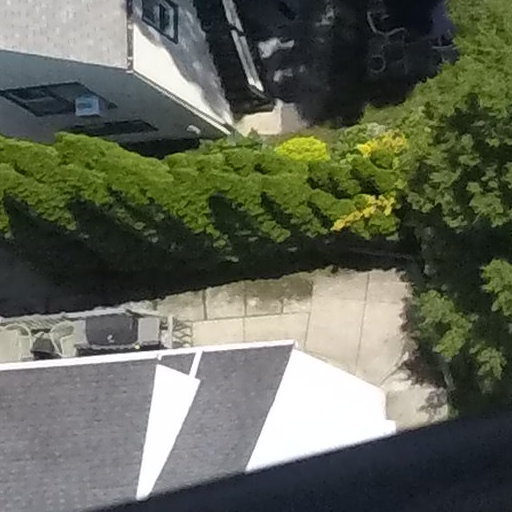container: (365, 53, 391, 74)
